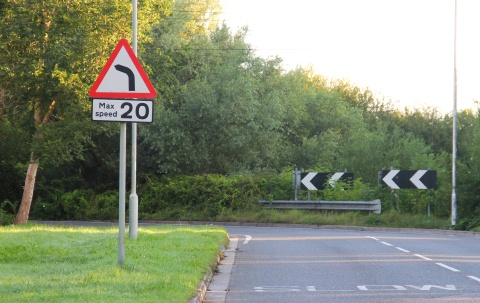Bend_to_left: (87, 37, 158, 101)
